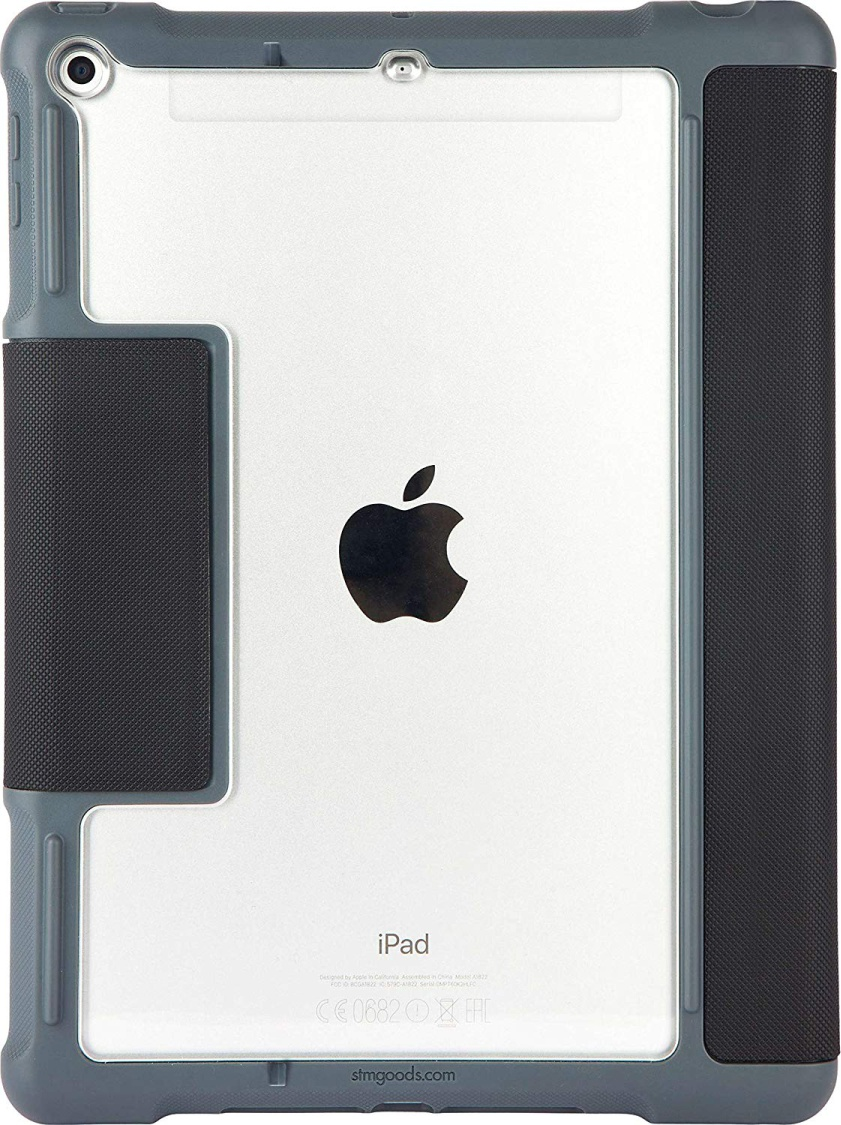apple: (301, 398, 539, 655)
